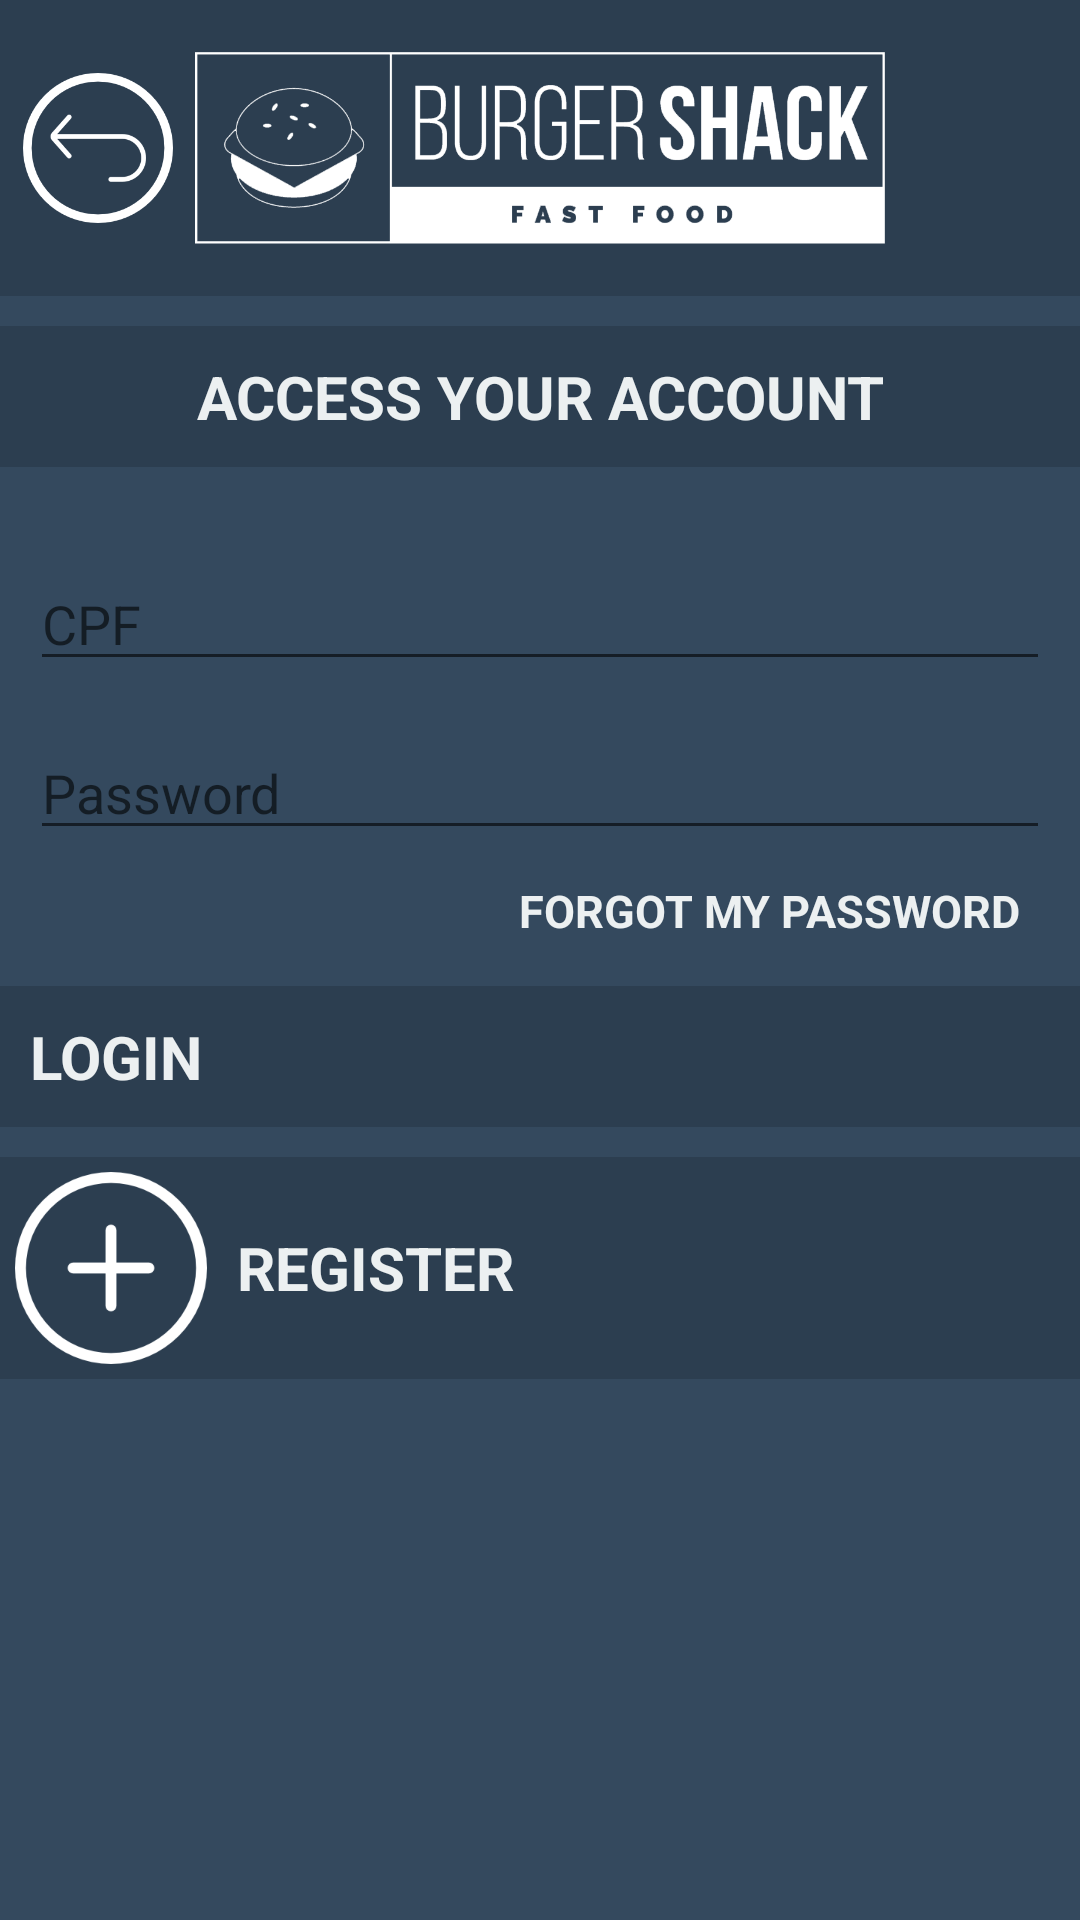

Named icons in this screenshot (1080 × 1920) and their centers, (x,y):
back: (98,148)
